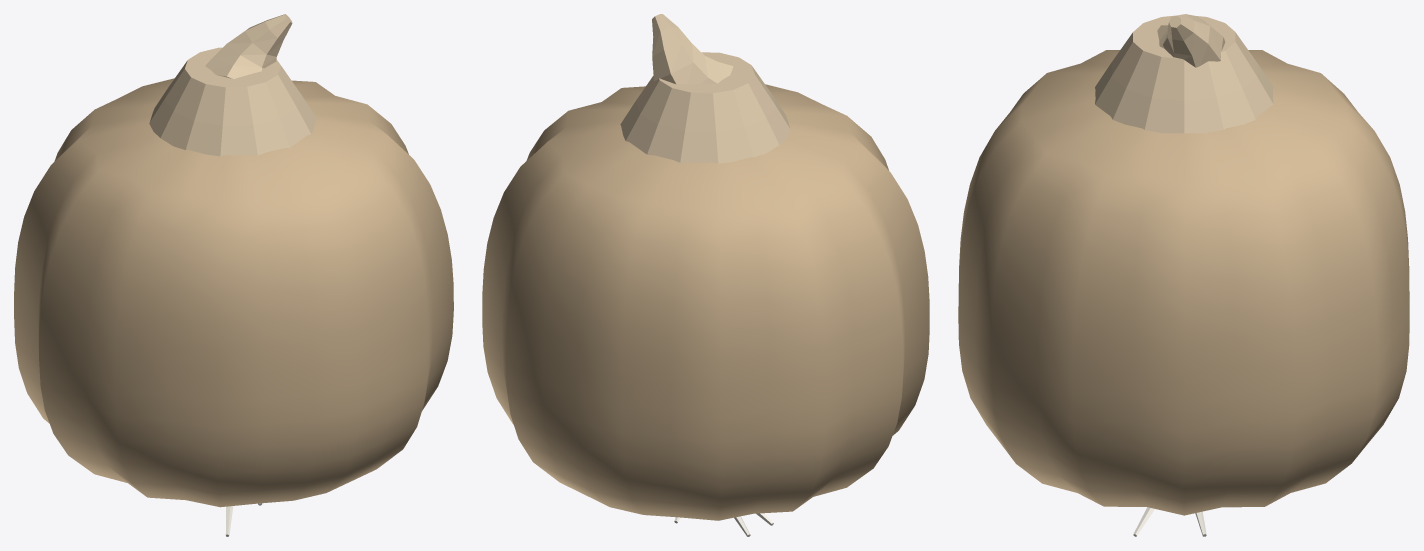
Rendered from fresh-produce-and-groceries-onion-brown-64d4c508__24356.glb.
3 renders of one model, left to right at view 1: azimuth 30°, elevation 25°; view 2: azimuth 150°, elevation 25°; view 3: azimuth 270°, elevation 25°, orthographic. The views are drawn at different scales.
Parts seen in each view (by area): view 1: onion-brown; view 2: onion-brown; view 3: onion-brown.
Part boxes in pixels (x1,y1,x2,y2): onion-brown: [14, 14, 453, 536]; onion-brown: [482, 14, 929, 536]; onion-brown: [958, 14, 1409, 536].
Bounding box in the file's own units: 0.0807 × 0.0941 × 0.0756.
